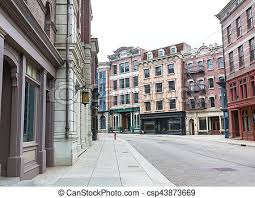strada: (11, 136, 255, 195)
